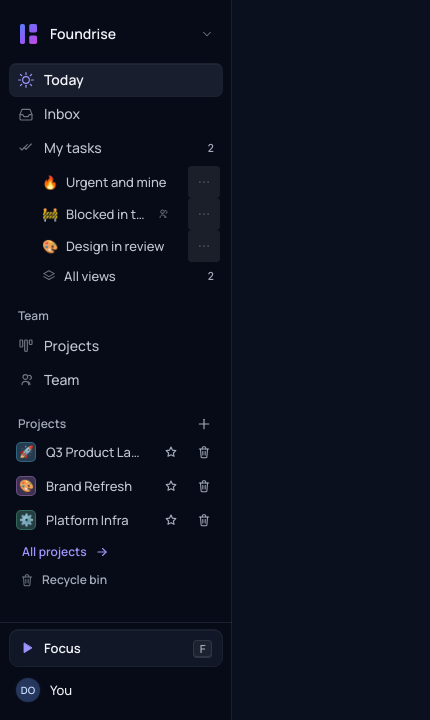
Sidebar › Views › ⋯ (or a right-click) has everything an owner of the view can do
Click the button named "Options for view Urgent and mine" at [204, 182], box [188,166,220,198]
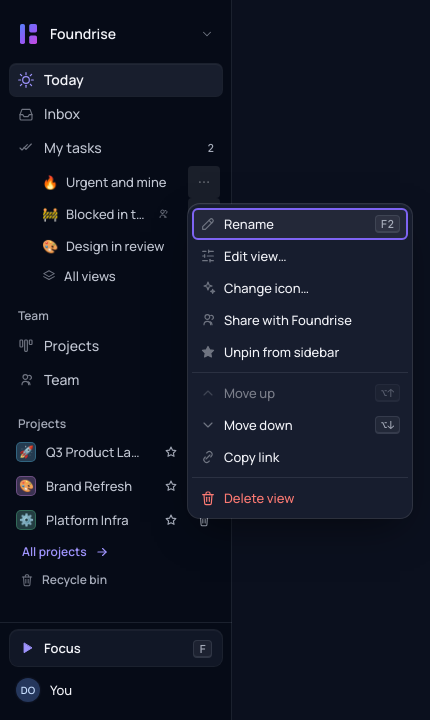
expect the menu item "Move up ⌥↑" is disabled: met, box [192,377,408,409]
Press Escape in the menu named "Options for view Urgent and mine", box [188,204,412,518]
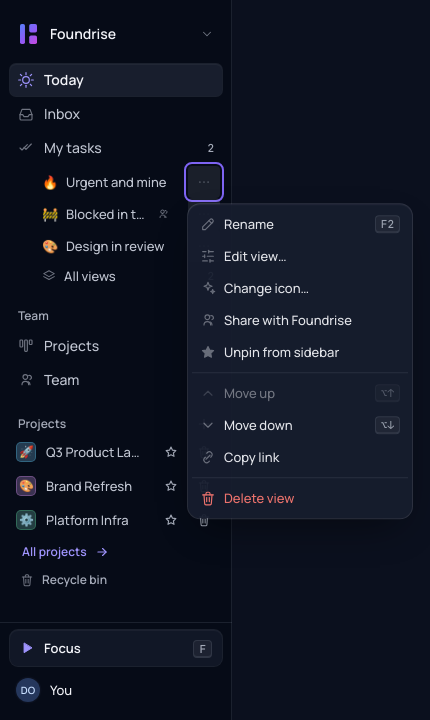
Right-click the button "🎨 Design in review" at [116, 246], box [10,230,222,262]
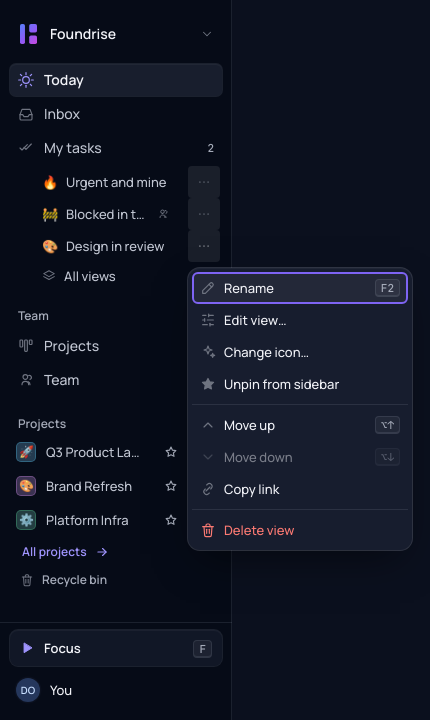
expect the menu named "Options for view Design in review" is shown: met, box [188,268,412,550]
